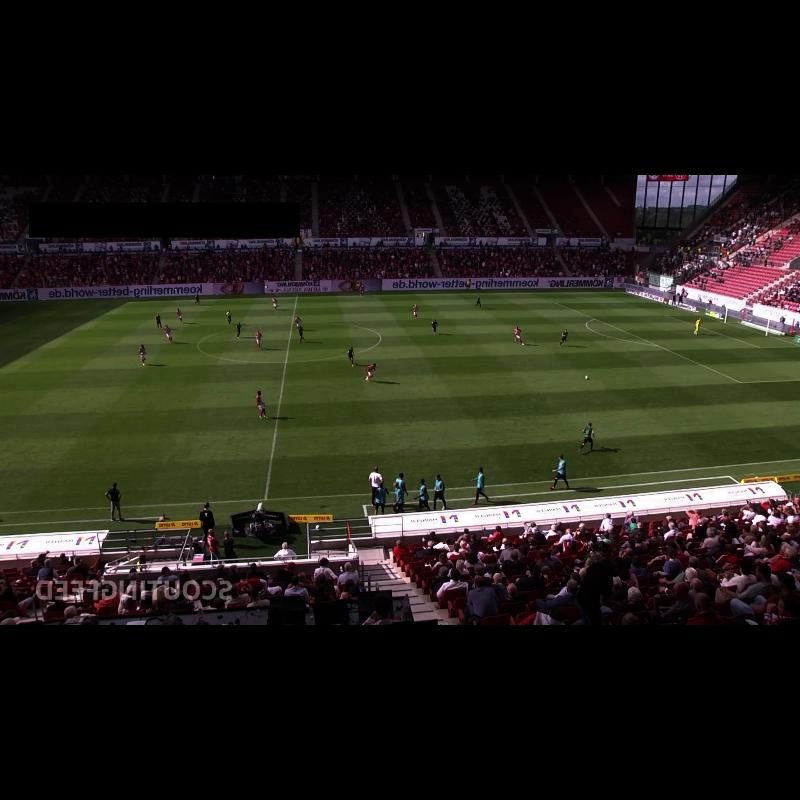cross_recipient_zone: (556, 302, 800, 382), (0, 317, 25, 327)
crossing_player_zone: (648, 380, 800, 462), (476, 290, 654, 304), (0, 302, 91, 317)
pitch: (0, 290, 800, 513)
